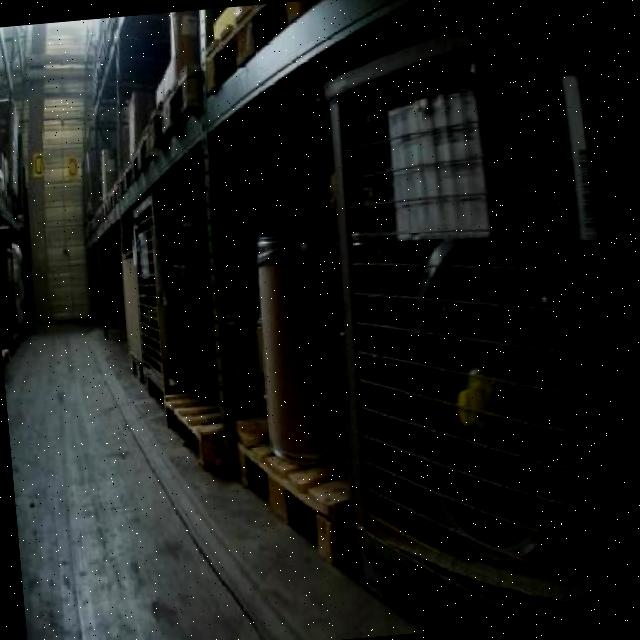pallet: (231, 415, 369, 609), (192, 0, 335, 106), (155, 378, 227, 479), (150, 54, 205, 163)
